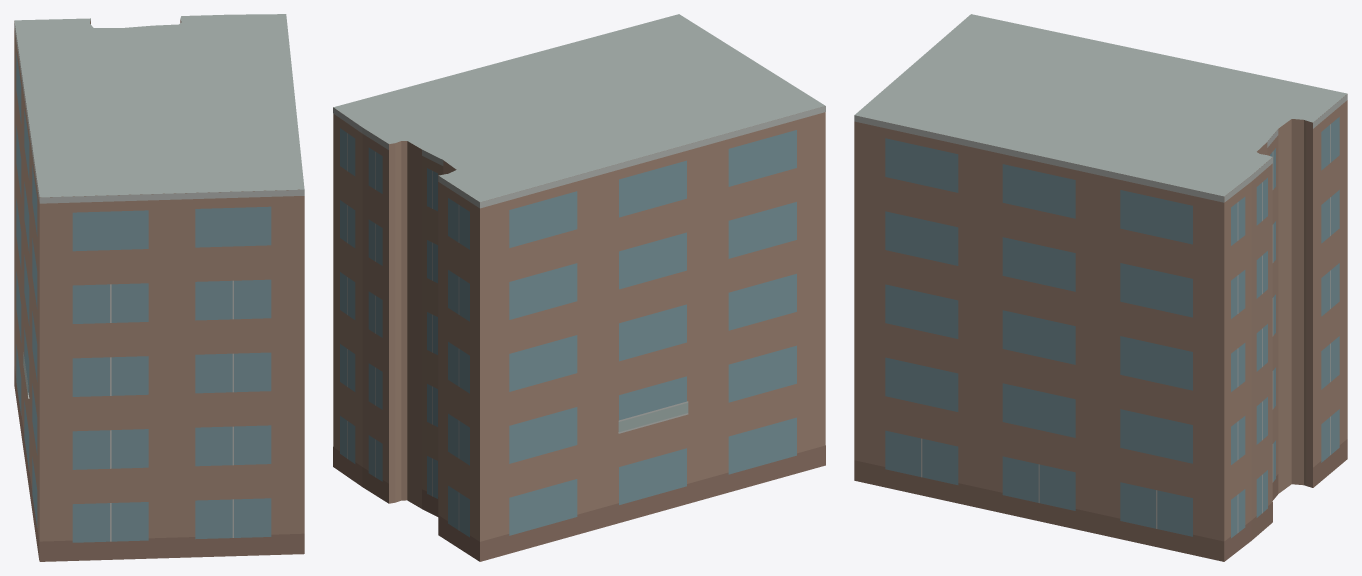
File: survey-upis-32884355.glb
The picture shows the model from 3 angles, left to right: view 1: azimuth 30°, elevation 25°; view 2: azimuth 150°, elevation 25°; view 3: azimuth 270°, elevation 25°; orthographic projection.
Visible parts, largest first — view 1: survey-upis-32884355.tmp; view 2: survey-upis-32884355.tmp; view 3: survey-upis-32884355.tmp.
Boxes of the visible parts, <box> form: survey-upis-32884355.tmp: <box>14,14,304,561</box>; survey-upis-32884355.tmp: <box>333,14,825,561</box>; survey-upis-32884355.tmp: <box>854,14,1347,561</box>.
Bounding box in the file's own units: 15.22 × 14.2 × 17.38.
